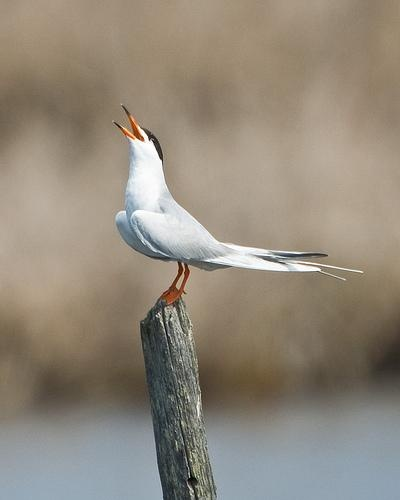bird: (103, 97, 367, 304)
